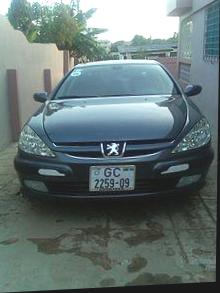License_Plate: (87, 159, 138, 196)
